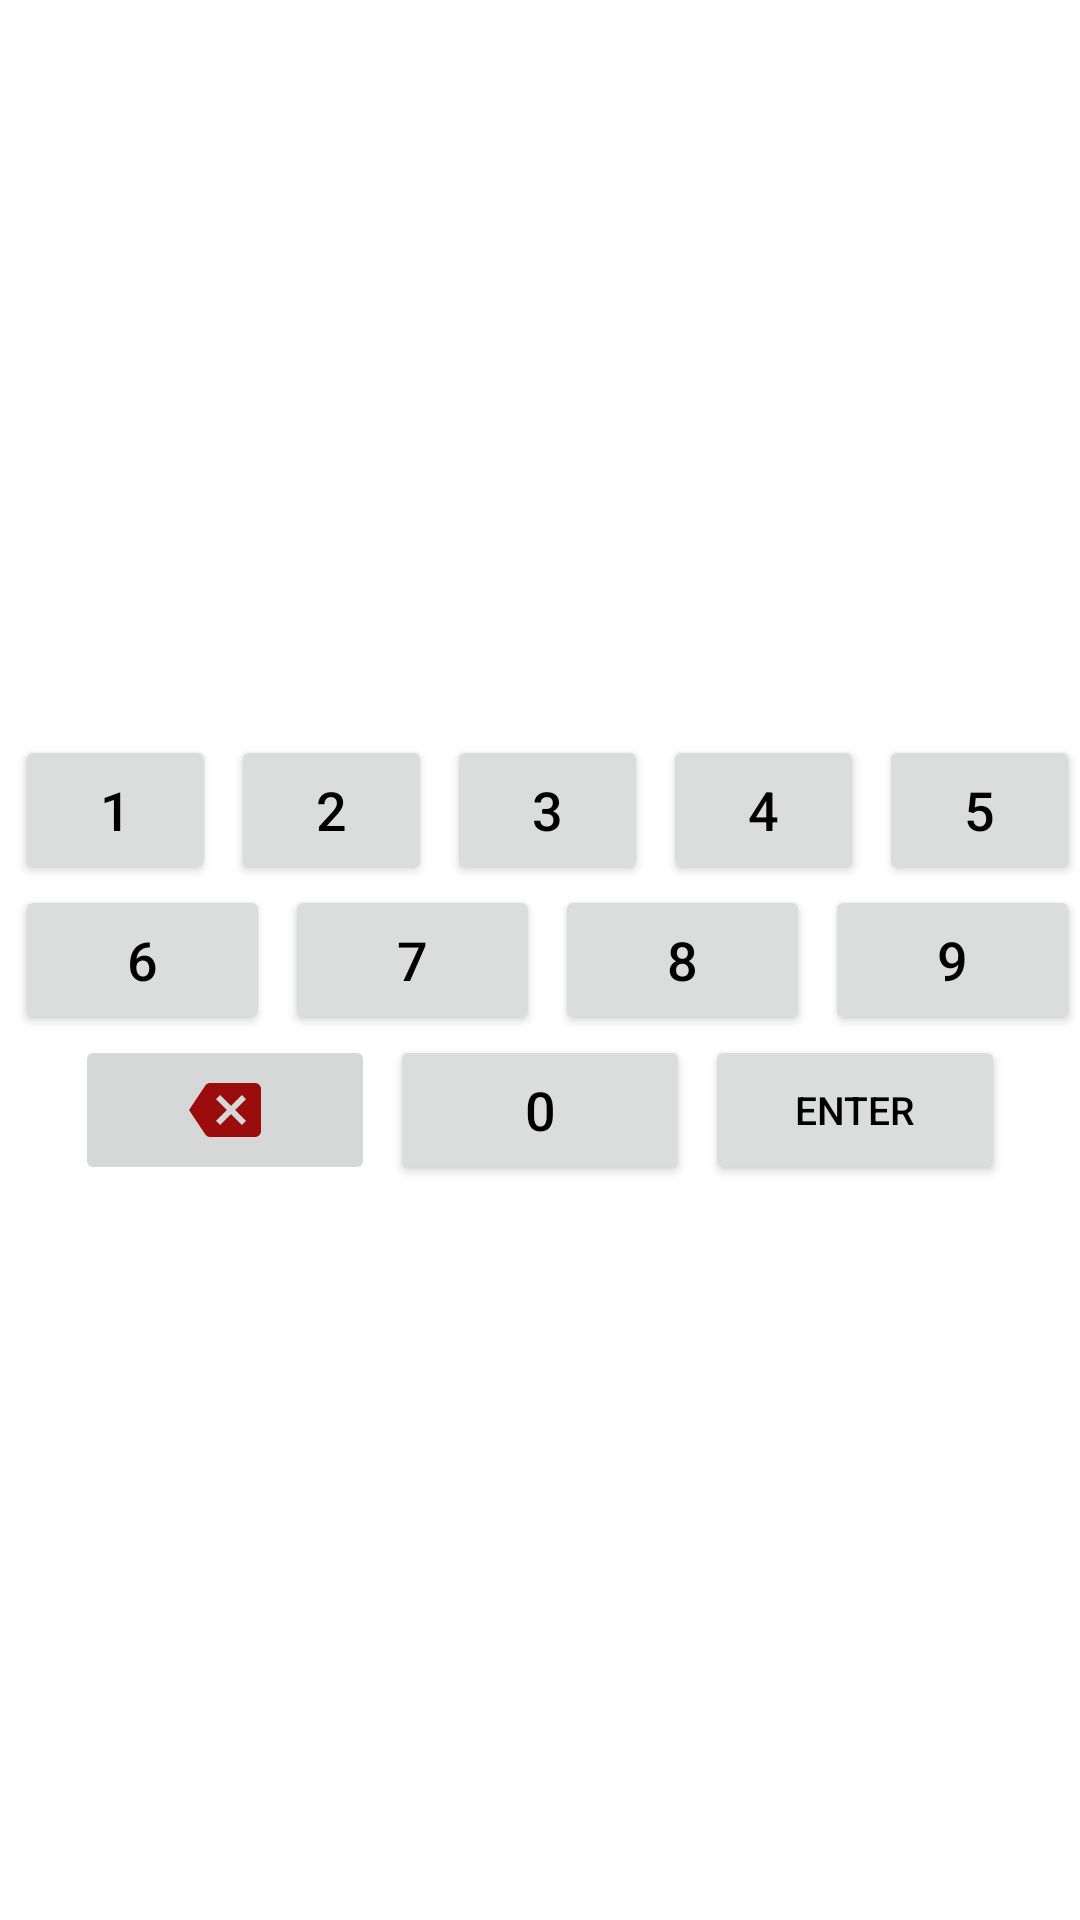

Where to tap for icons on this 1080w x 1920h app screen, as [x,y]:
backspace: [225,1110]
